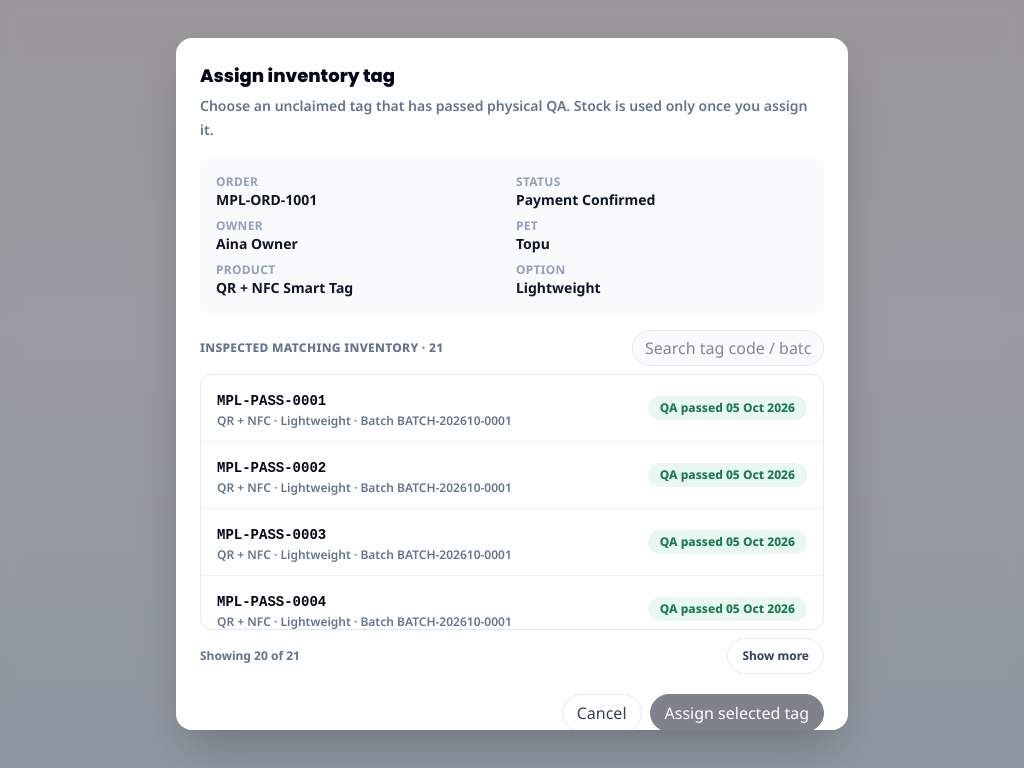
Scenario: TagAssignmentModal › pages through every inspected tag with Show more
This screenshot has width=1024, height=768.
Expected: the text "Showing 20 of 21" is shown, x1=200 y1=648 x2=300 y2=664
Click the button "Show more" at (776, 656), box x1=727 y1=638 x2=824 y2=674
(page scrolled)
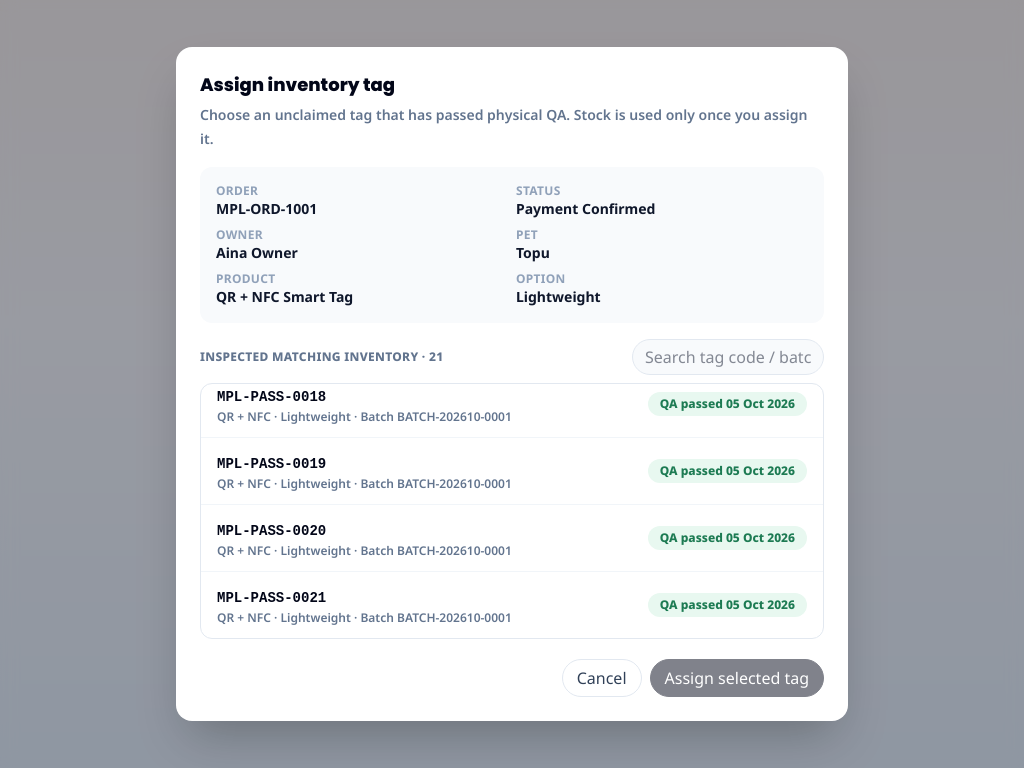
Expected: the text "MPL-PASS-0021" is shown, x1=217 y1=590 x2=326 y2=606
Expected: the button "Show more" is gone
